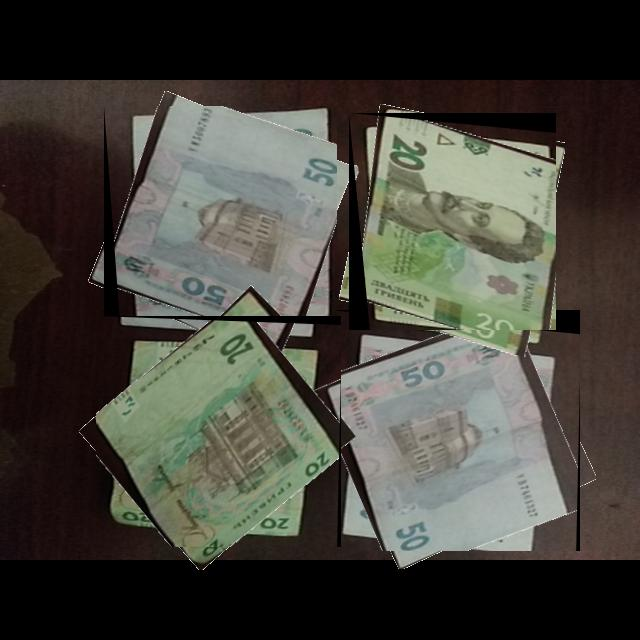20uah: (96, 316, 342, 548), (349, 113, 557, 331)
50uah: (329, 310, 581, 552), (104, 106, 338, 344)
